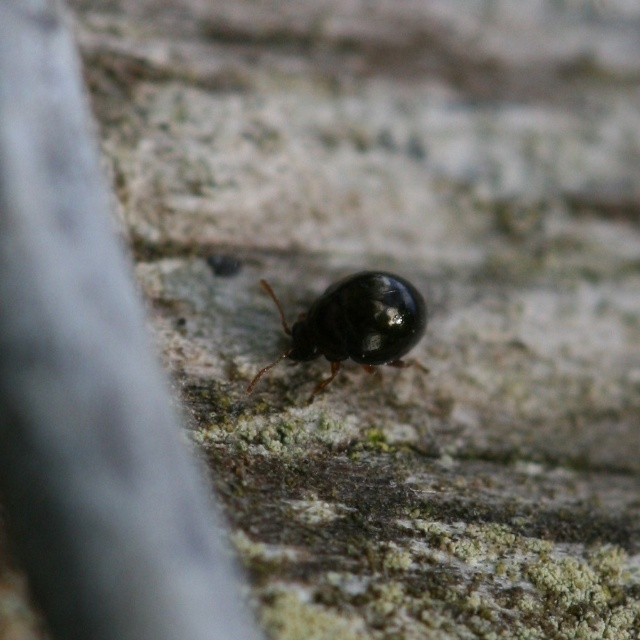Ladybug: (238, 278, 437, 398)
